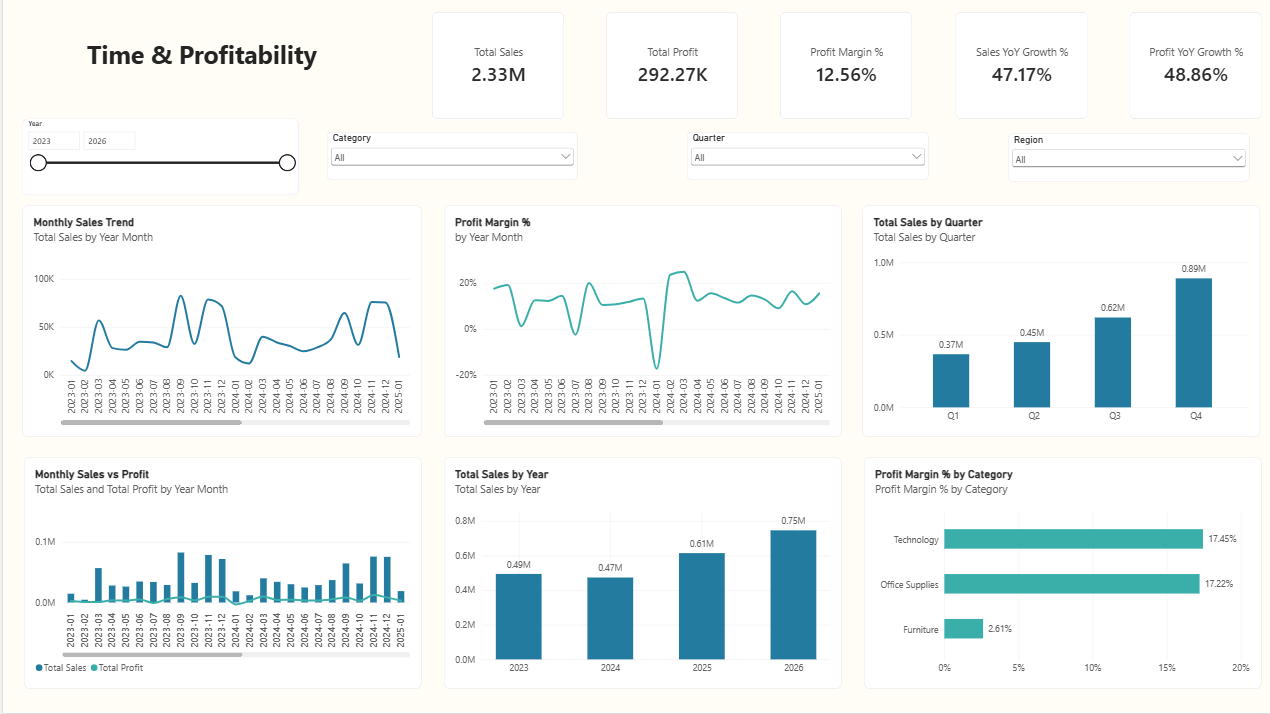

This screenshot's page, from the dashboard's own definition file:
{"tool":"powerbi","page":{"name":"Time & Profitablity","canvas":[1920,1080],"ordinal":3},"visuals":[{"type":"cardVisual","fields":{"Data":["Orders.Total Sales"]},"box":[650,17.5,200,162.5],"z":0},{"type":"cardVisual","fields":{"Data":["Orders.Total Profit"]},"box":[913.8,18,200,162],"z":1000},{"type":"cardVisual","fields":{"Data":["Orders.Profit Margin %"]},"box":[1177.5,18,200,162],"z":2000},{"type":"cardVisual","fields":{"Data":["Orders.Sales YoY Growth %"]},"box":[1441.2,18,200,162],"z":3000},{"type":"cardVisual","fields":{"Data":["Orders.Profit YoY Growth %"]},"box":[1705,18,200,162],"z":4000},{"type":"lineChart","title":"Monthly Sales Trend","fields":{"Y":["Orders.Total Sales"],"Category":["DateTable.Year Month"]},"box":[29.5,311.2,604.2,350],"z":5000},{"type":"lineClusteredColumnComboChart","title":"Monthly Sales vs Profit","fields":{"Category":["DateTable.Year Month"],"Y":["Orders.Total Sales"],"Y2":["Orders.Total Profit"]},"box":[31.8,692.7,601.9,350],"z":6000},{"type":"lineChart","fields":{"Category":["DateTable.Year Month"],"Y":["Orders.Profit Margin %"]},"box":[666.6,311.2,601.9,350],"z":7000},{"type":"clusteredColumnChart","title":"Total Sales by Year","fields":{"Category":["DateTable.Year"],"Y":["Orders.Total Sales"]},"box":[667.8,692.7,601.9,350],"z":8000},{"type":"columnChart","title":"Total Sales by Quarter","fields":{"Category":["DateTable.Quarter"],"Y":["Orders.Total Sales"]},"box":[1301.5,311.2,601.9,350],"z":9000},{"type":"barChart","title":"Profit Margin % by Category","fields":{"Category":["Orders.Category"],"Y":["Orders.Profit Margin %"]},"box":[1303.7,692.7,601.9,350],"z":10000},{"type":"slicer","fields":{"Values":["DateTable.Year"]},"box":[29.5,179.4,417.9,115.8],"z":11000},{"type":"slicer","fields":{"Values":["DateTable.Quarter"]},"box":[1035.7,199.9,365.7,72.7],"z":12000},{"type":"slicer","fields":{"Values":["Orders.Category"]},"box":[490.6,199.9,379.3,72.7],"z":13000},{"type":"slicer","fields":{"Values":["Orders.Region"]},"box":[1521.8,202.1,365.7,72.7],"z":14000},{"type":"textbox","box":[29.5,38.6,542.8,99.9],"z":15000}]}

Visuals, with their boxes in screenshot pixels (x1, y1, x2, y2), scaled from the page's 1920x1080 canvas onto the 1270x714 screenshot:
cardVisual - Orders.Total Sales: [left=430, top=12, right=562, bottom=119]
cardVisual - Orders.Total Profit: [left=604, top=12, right=737, bottom=119]
cardVisual - Orders.Profit Margin %: [left=779, top=12, right=911, bottom=119]
cardVisual - Orders.Sales YoY Growth %: [left=953, top=12, right=1086, bottom=119]
cardVisual - Orders.Profit YoY Growth %: [left=1128, top=12, right=1260, bottom=119]
"Monthly Sales Trend" lineChart: [left=20, top=206, right=419, bottom=437]
"Monthly Sales vs Profit" lineClusteredColumnComboChart: [left=21, top=458, right=419, bottom=689]
lineChart - DateTable.Year Month x Orders.Profit Margin %: [left=441, top=206, right=839, bottom=437]
"Total Sales by Year" clusteredColumnChart: [left=442, top=458, right=840, bottom=689]
"Total Sales by Quarter" columnChart: [left=861, top=206, right=1259, bottom=437]
"Profit Margin % by Category" barChart: [left=862, top=458, right=1260, bottom=689]
slicer - DateTable.Year: [left=20, top=119, right=296, bottom=195]
slicer - DateTable.Quarter: [left=685, top=132, right=927, bottom=180]
slicer - Orders.Category: [left=325, top=132, right=575, bottom=180]
slicer - Orders.Region: [left=1007, top=134, right=1249, bottom=182]
textbox: [left=20, top=26, right=379, bottom=92]
